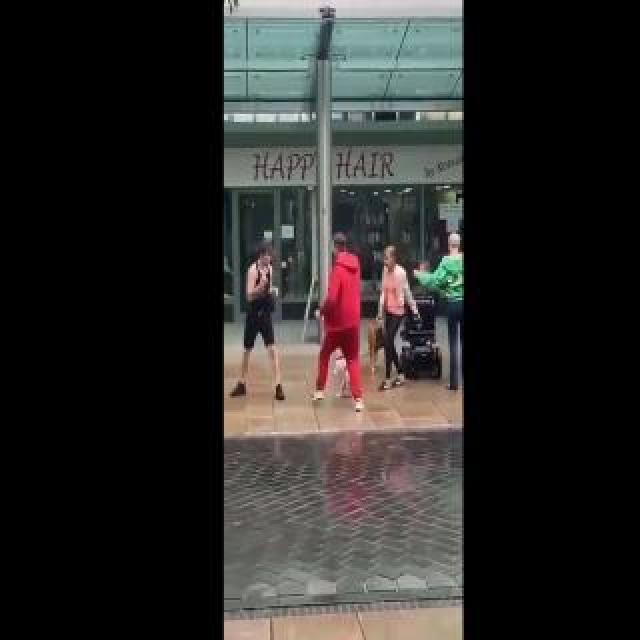fight: (231, 231, 375, 425), (375, 210, 465, 396)
